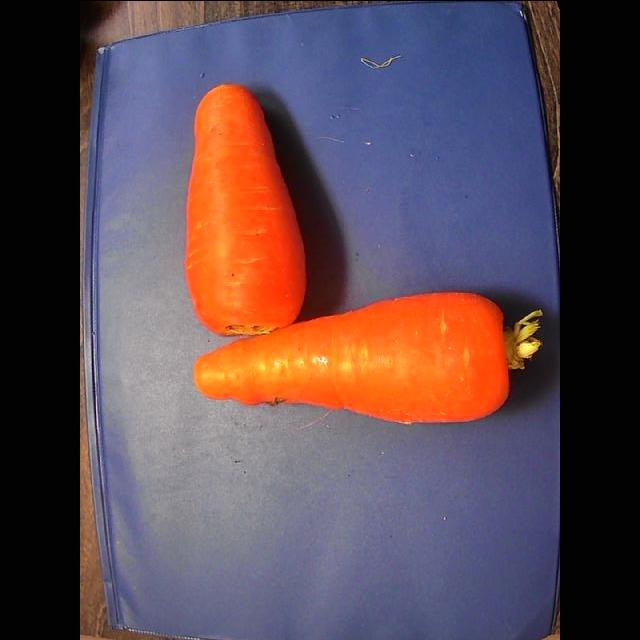zanahoria: (185, 83, 306, 335)
